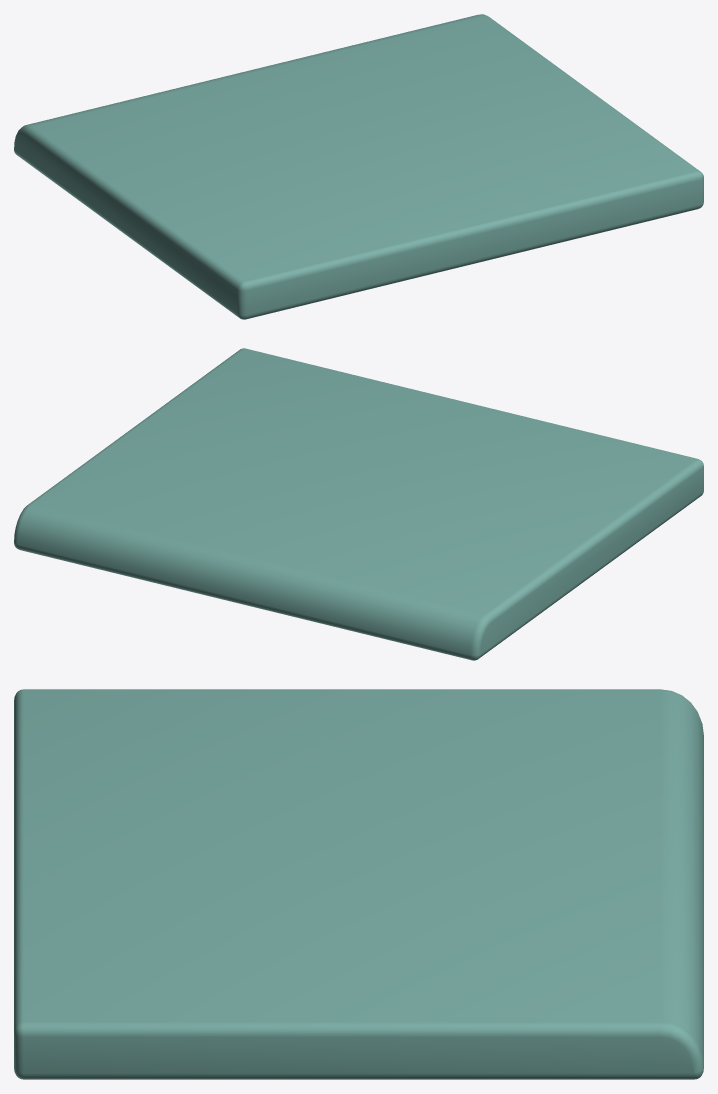
Rendered from samblatdowindy.fbx.
3 renders of one model, top to bottom at view 1: azimuth 30°, elevation 25°; view 2: azimuth 150°, elevation 25°; view 3: azimuth 270°, elevation 25°, orthographic. The views are drawn at different scales.
Visible parts, largest first — view 1: Cube.027; view 2: Cube.027; view 3: Cube.027.
Part boxes in pixels (<box>): Cube.027: <box>14,14,703,319</box>; Cube.027: <box>14,348,703,660</box>; Cube.027: <box>14,689,703,1079</box>.
Bounding box in the file's own units: 608 × 46.93 × 519.
